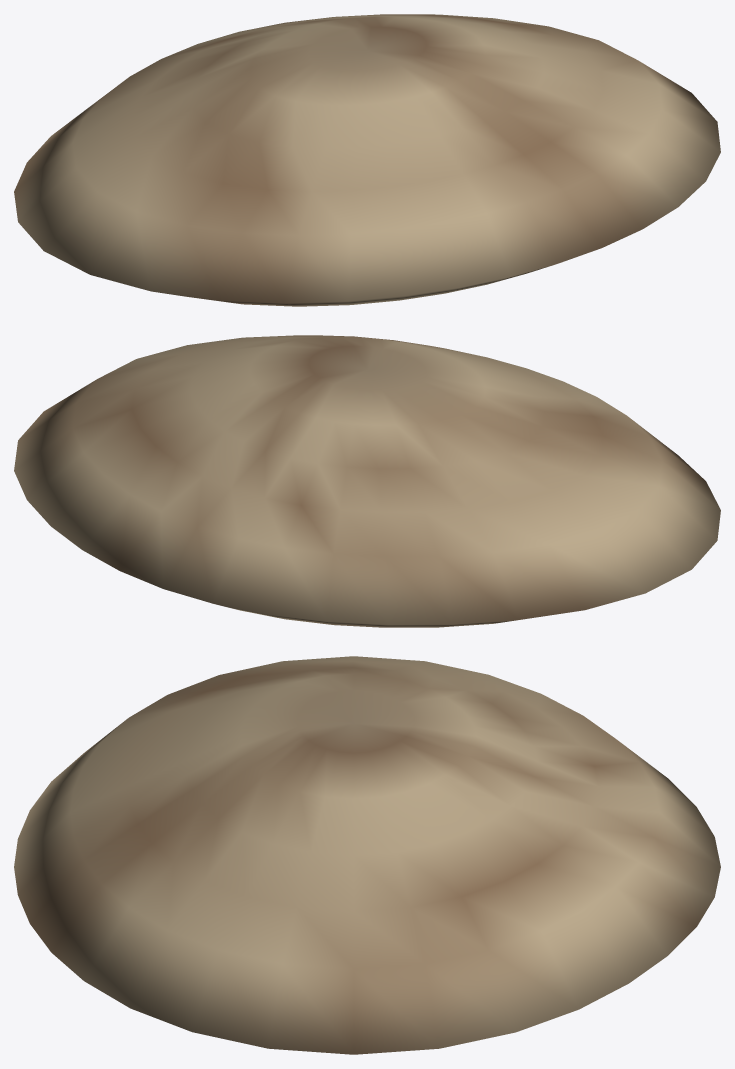
The model's file is shell-asari.glb.
3 renders of one model, top to bottom at view 1: azimuth 30°, elevation 25°; view 2: azimuth 150°, elevation 25°; view 3: azimuth 270°, elevation 25°, orthographic. The views are drawn at different scales.
Parts seen in each view (by area): view 1: shell-asari; view 2: shell-asari; view 3: shell-asari.
Part boxes in pixels (x1,y1,x2,y2): shell-asari: (14, 14, 720, 306); shell-asari: (14, 335, 720, 627); shell-asari: (14, 656, 720, 1054).
Size of the model in its own units: 0.23 by 0.0675 by 0.183.
